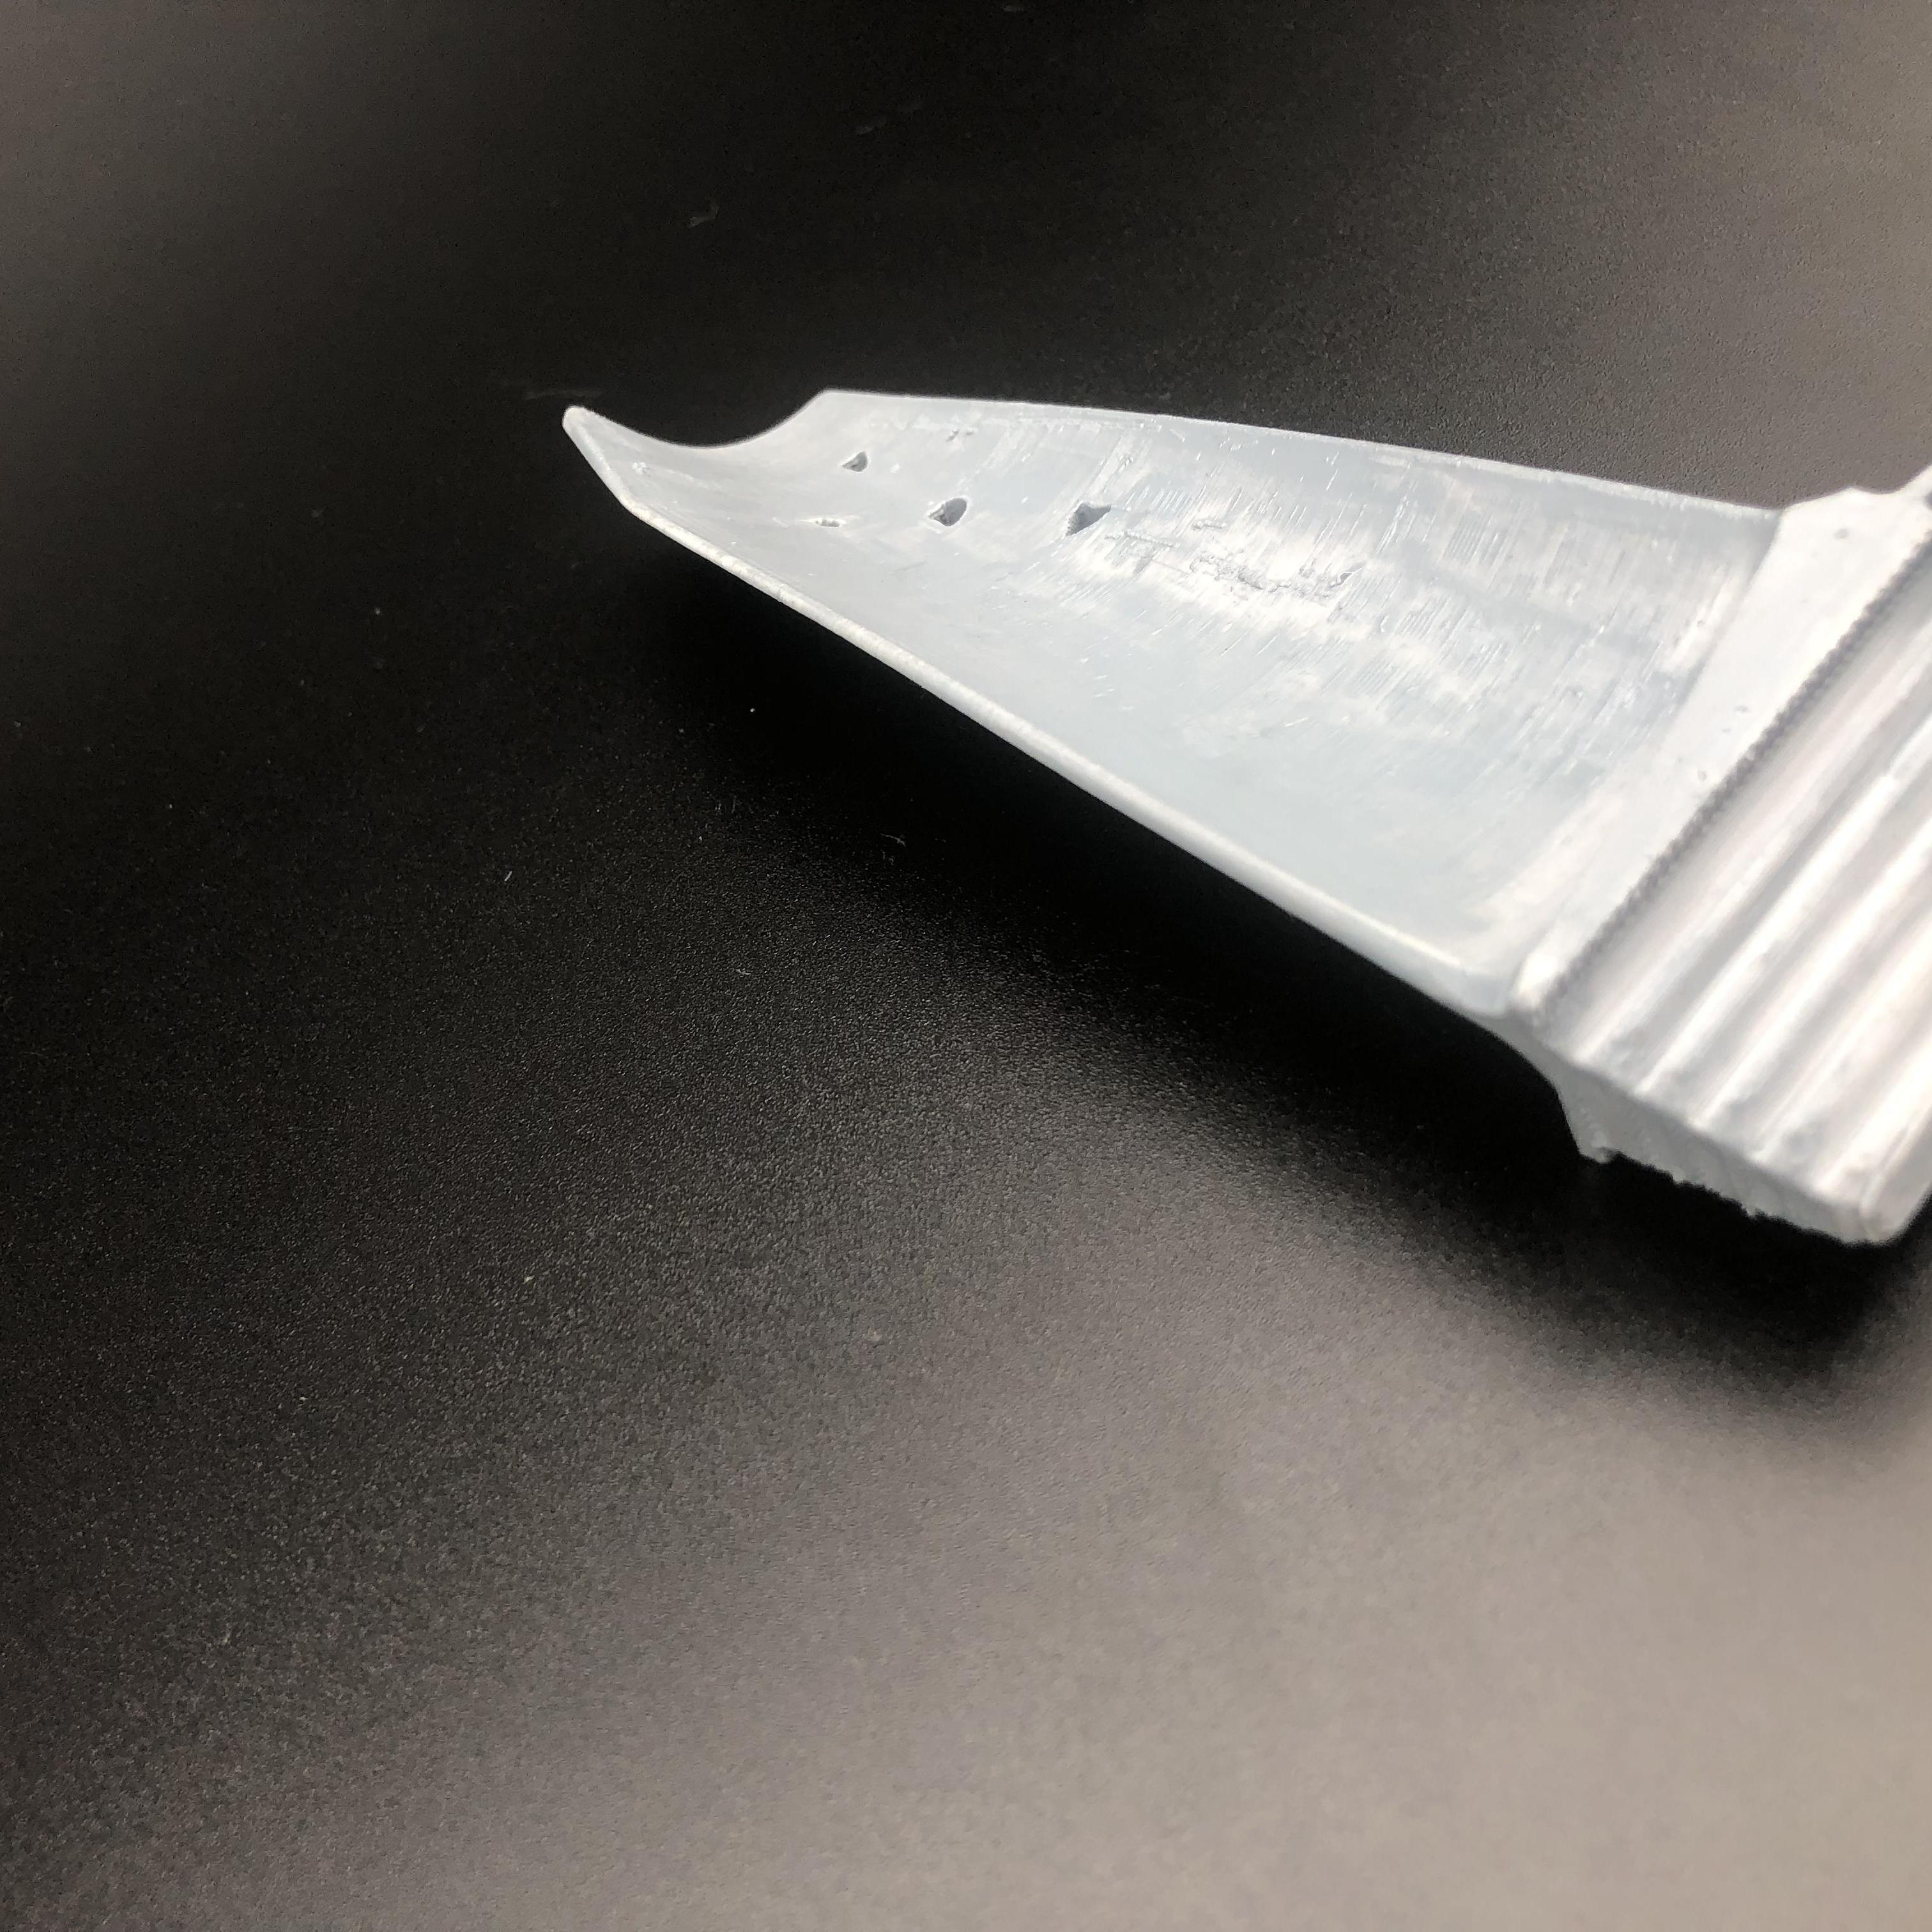breakdown: (816, 455, 1143, 541)
